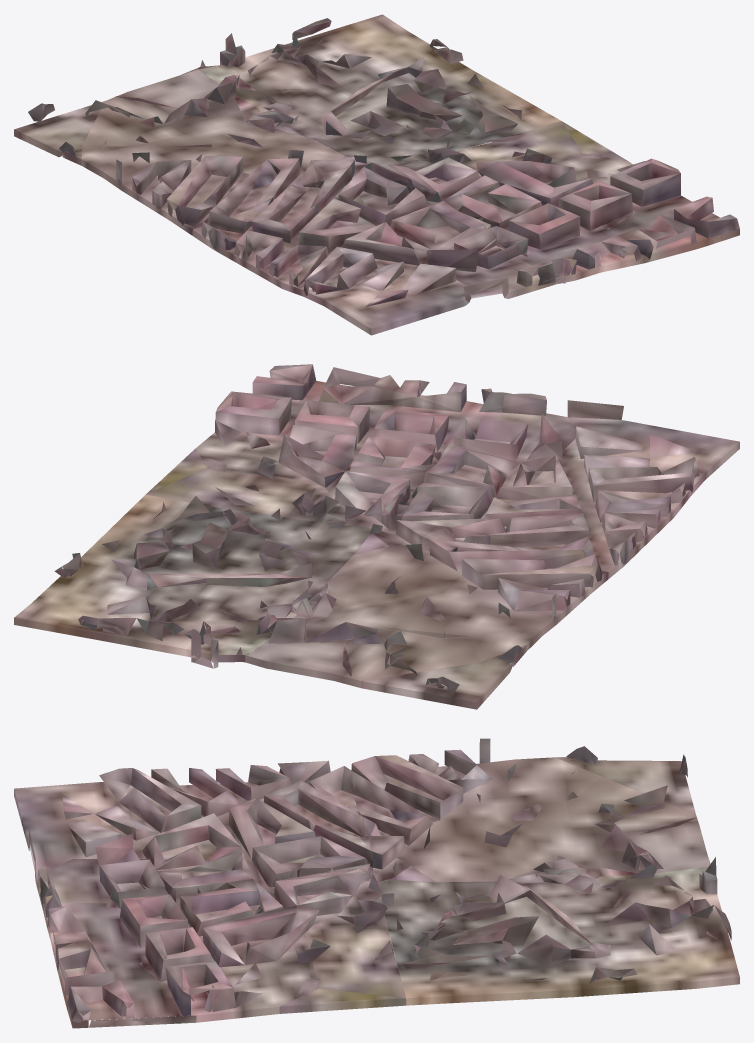
The picture shows the model from 3 angles, top to bottom: view 1: azimuth 30°, elevation 25°; view 2: azimuth 150°, elevation 25°; view 3: azimuth 270°, elevation 25°; orthographic projection. The views are drawn at different scales.
Visible parts, largest first — view 1: Mesh_0; view 2: Mesh_0; view 3: Mesh_0.
Boxes of the visible parts, <box> form: Mesh_0: <box>14,14,739,335</box>; Mesh_0: <box>14,364,739,709</box>; Mesh_0: <box>14,738,739,1028</box>.
Size of the model in its own units: 533 by 52.15 by 659.
1 material, 1 textured.
